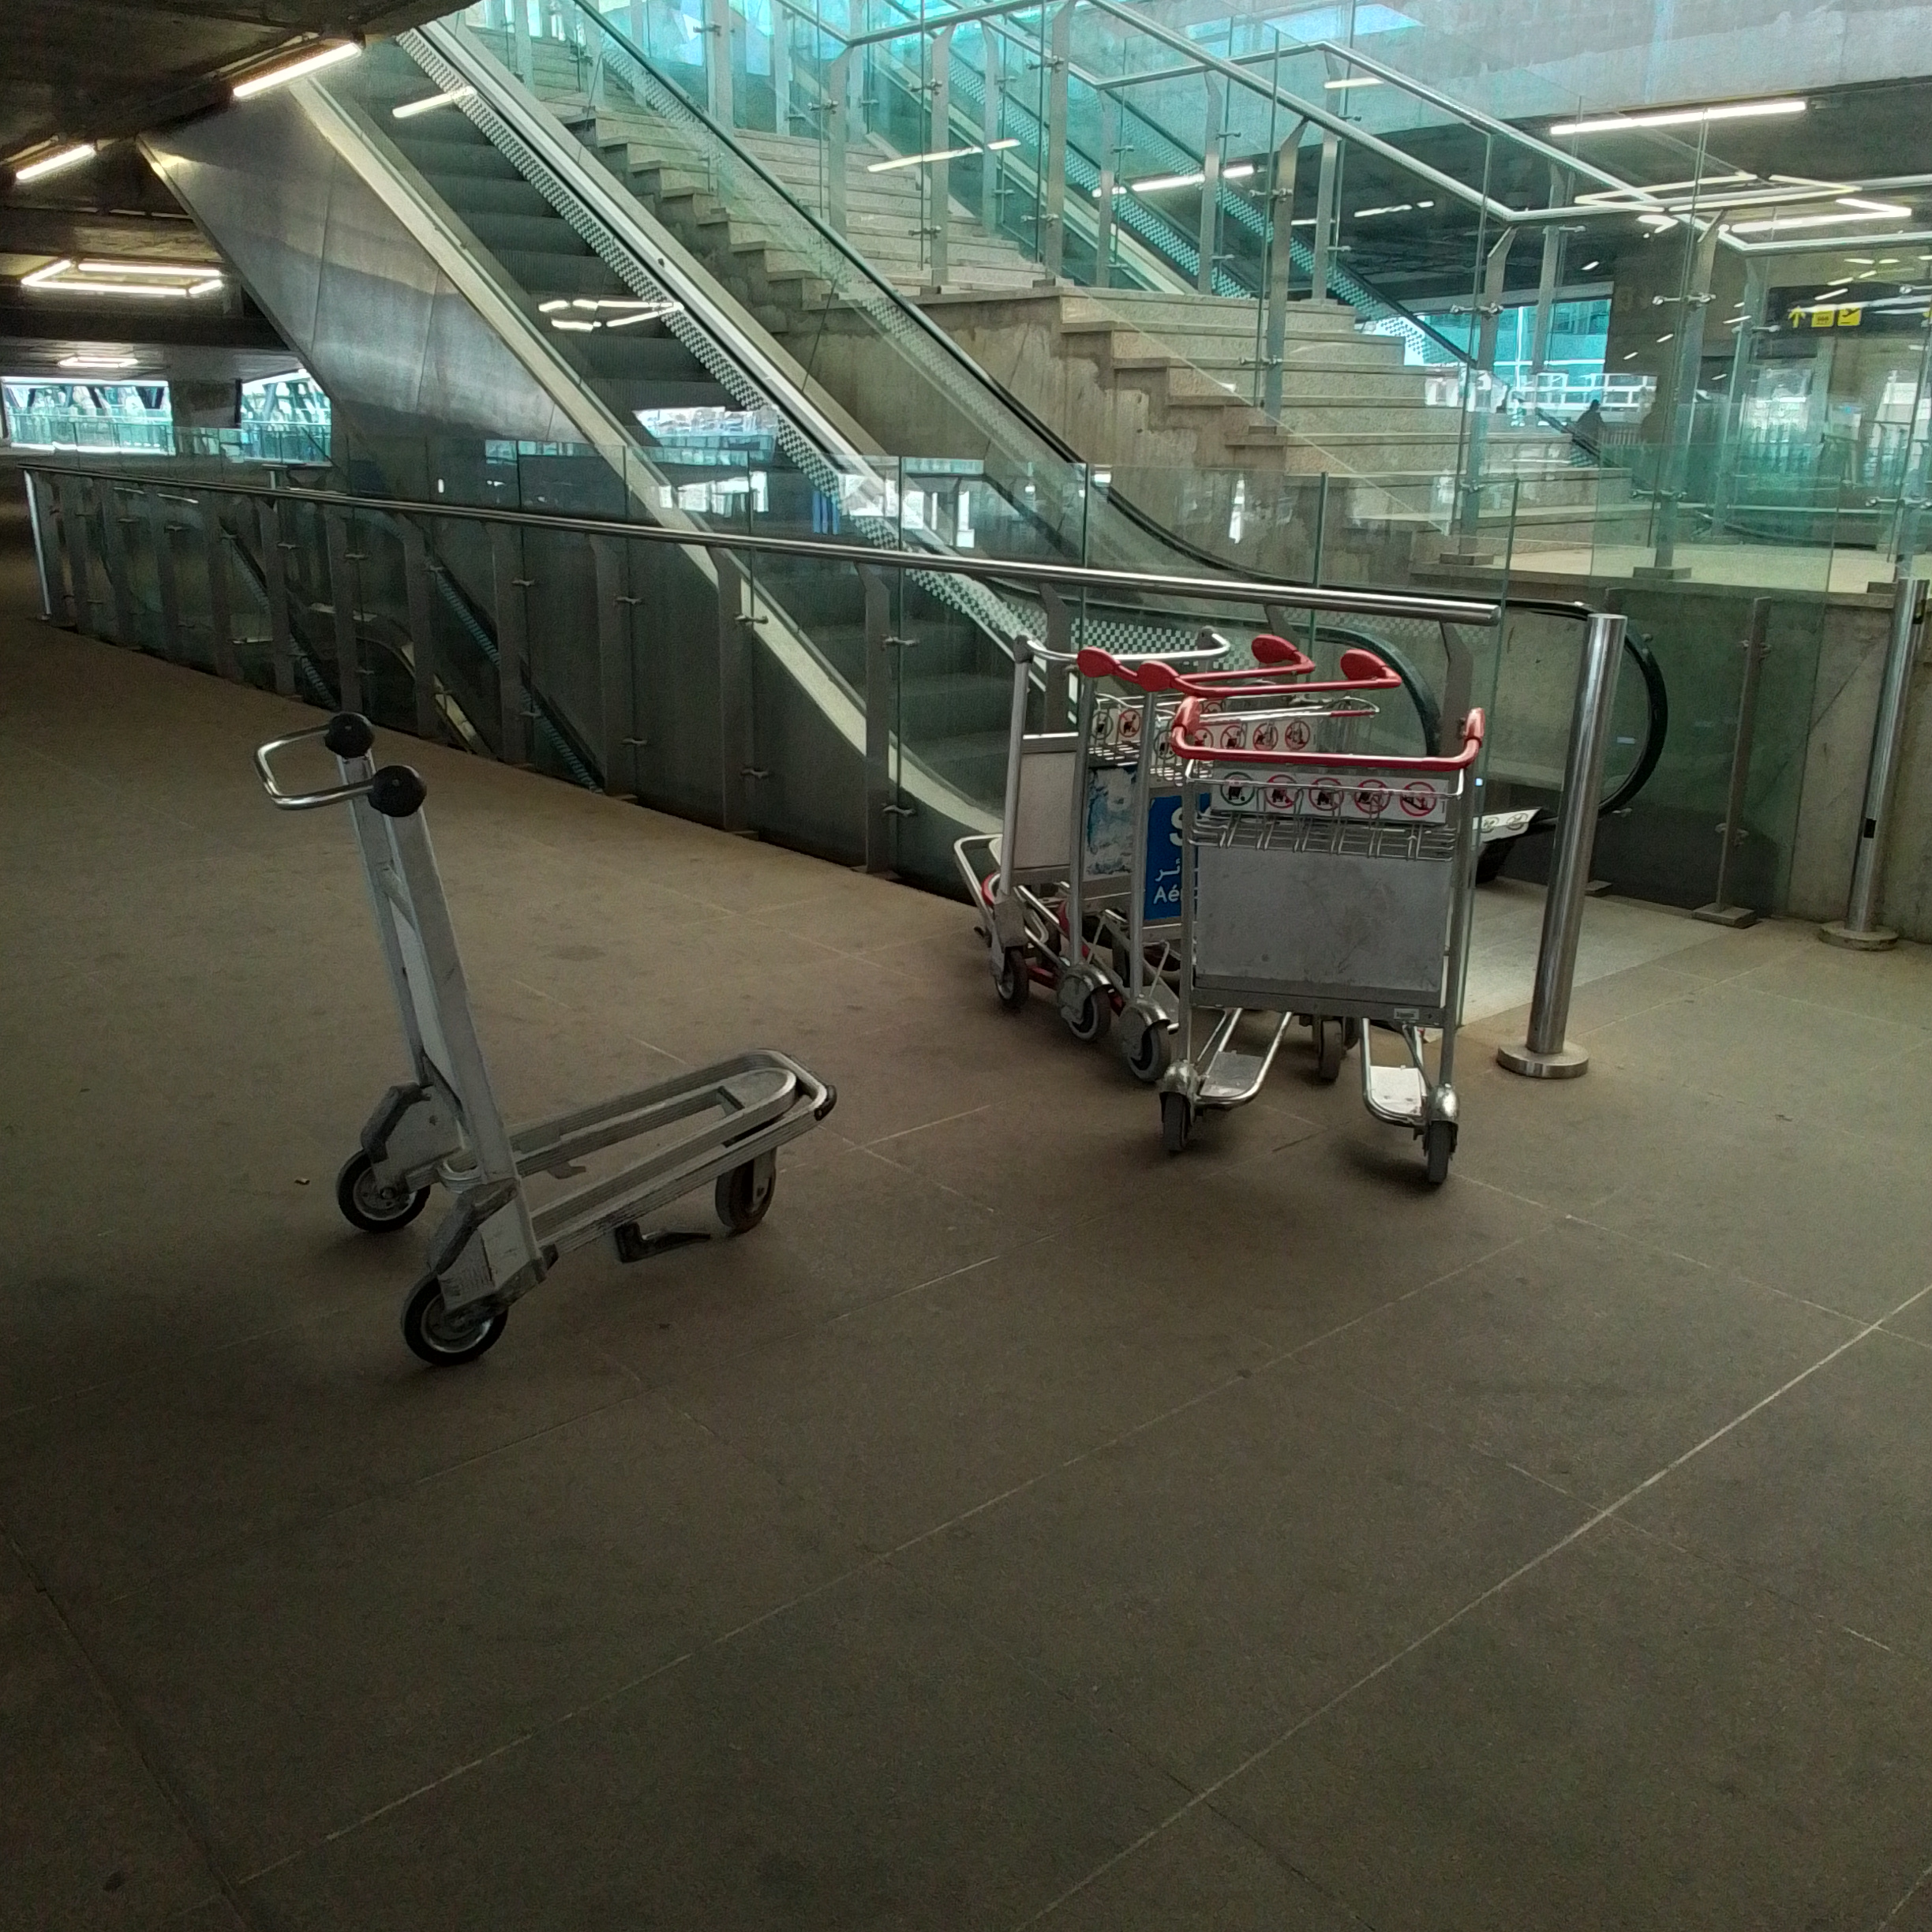airport-trolley: (242, 718, 833, 1378), (1159, 686, 1477, 1198), (1076, 648, 1357, 1067), (955, 632, 1237, 1028)
